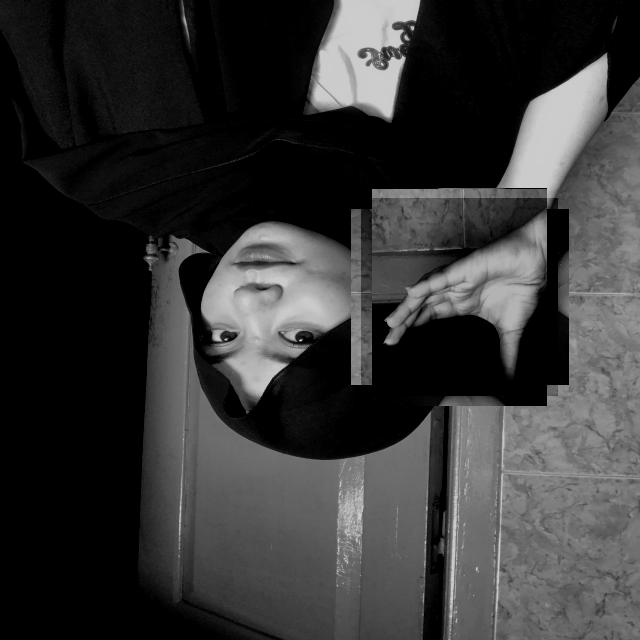mendengar: (361, 198, 558, 396)
